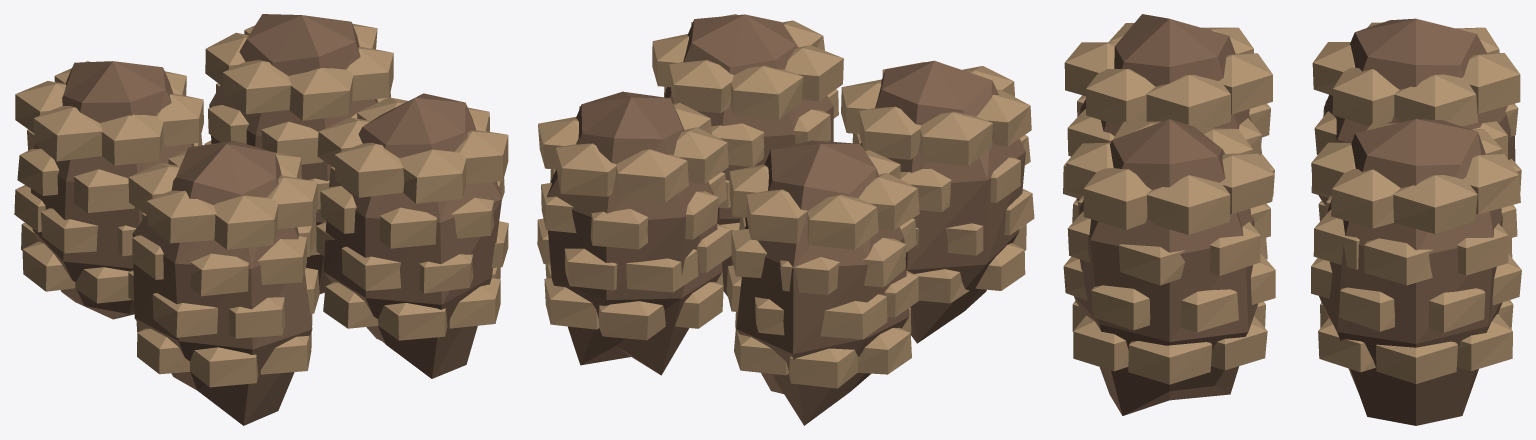
File: PLANT_11_PineConeCluster.glb
3 renders of one model, left to right at view 1: azimuth 30°, elevation 25°; view 2: azimuth 150°, elevation 25°; view 3: azimuth 270°, elevation 25°, orthographic. The views are drawn at different scales.
Parts seen in each view (by area): view 1: PLANT_11_PineConeCluster; view 2: PLANT_11_PineConeCluster; view 3: PLANT_11_PineConeCluster.
Boxes of the visible parts, x1=… form: PLANT_11_PineConeCluster: x1=14, y1=14, x2=508, y2=425; PLANT_11_PineConeCluster: x1=537, y1=14, x2=1034, y2=425; PLANT_11_PineConeCluster: x1=1063, y1=14, x2=1521, y2=425.
Size of the model in its own units: 0.4878 by 0.34 by 0.5026.
